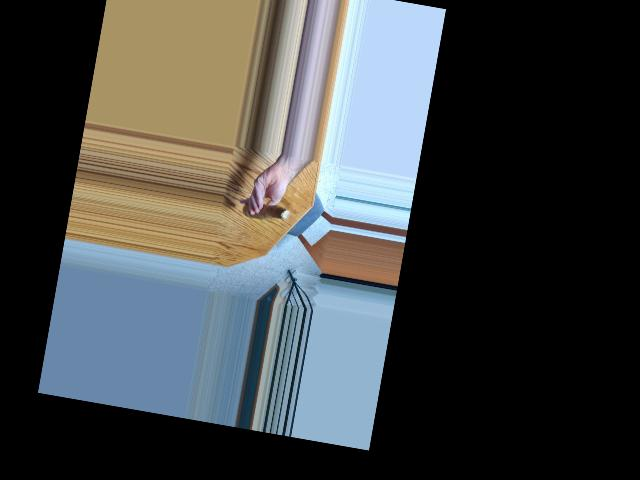sweet_potato: (245, 197, 287, 225)
